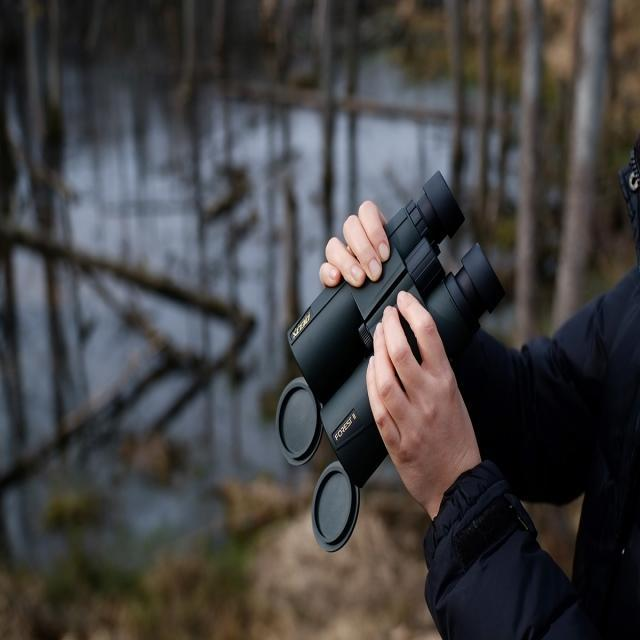Binocular: (259, 155, 503, 564)
